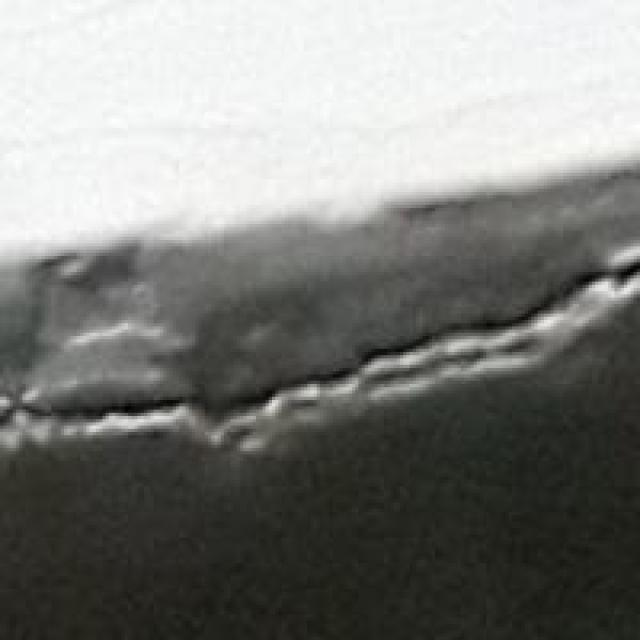crack: (0, 253, 637, 547)
